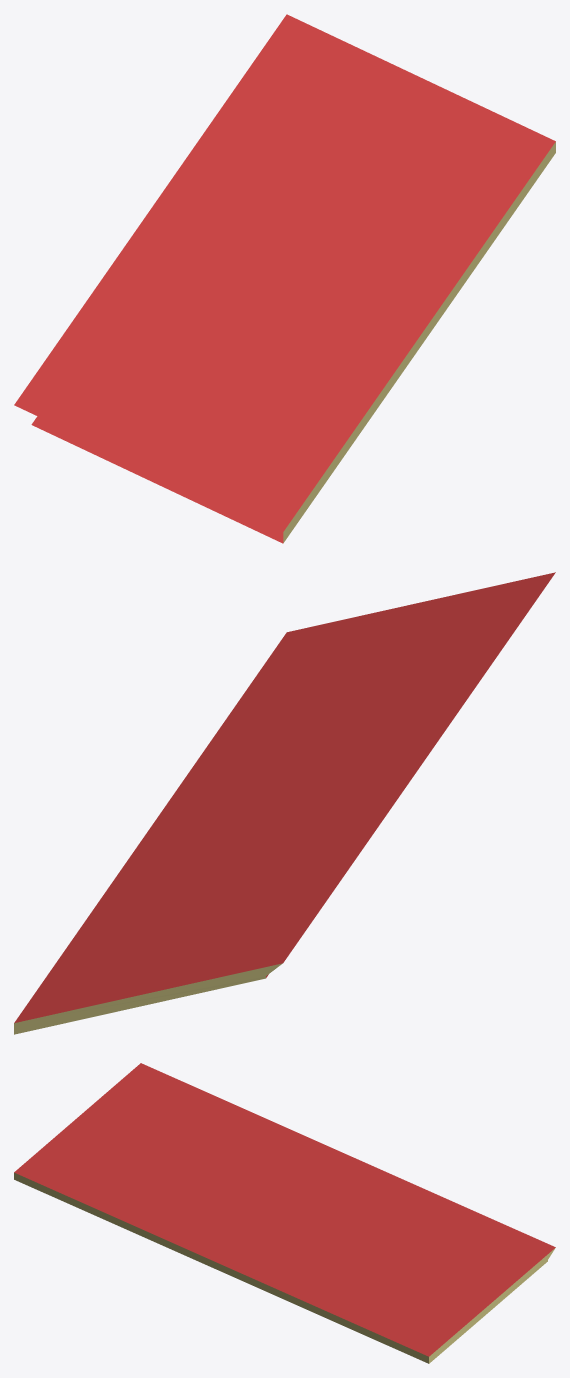
3 renders of one model, top to bottom at view 1: azimuth 30°, elevation 25°; view 2: azimuth 210°, elevation 25°; view 3: azimuth 270°, elevation 25°, orthographic. The views are drawn at different scales.
Bounding box in the file's own units: 7.07 × 6.88 × 0.918.
